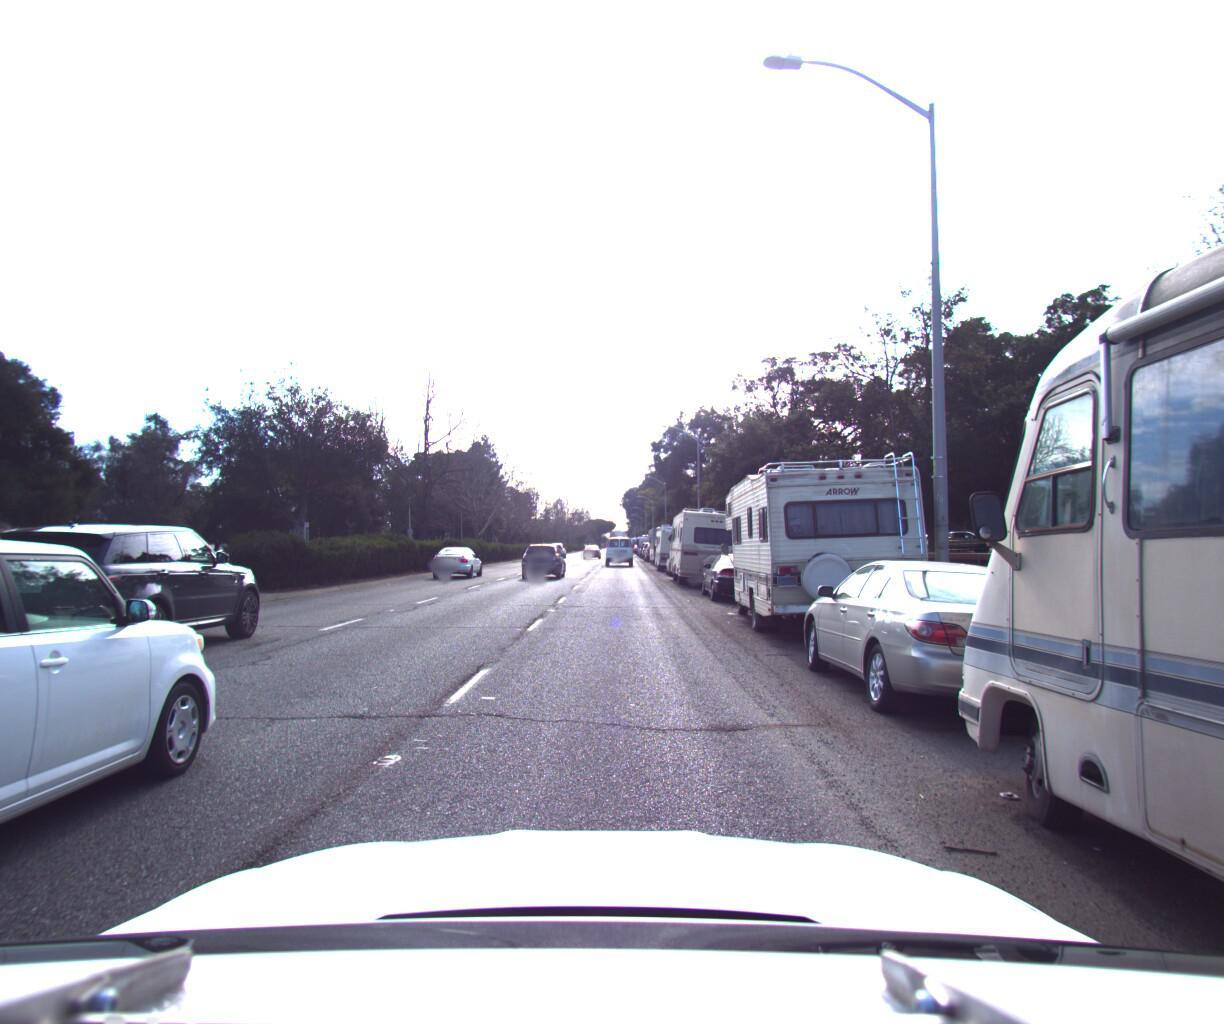car: (790, 543, 1139, 745), (696, 544, 777, 598), (431, 536, 487, 574), (519, 535, 568, 574), (604, 526, 632, 558), (582, 535, 601, 551)
other_vehicle: (719, 429, 935, 656), (666, 491, 758, 581), (652, 514, 698, 566), (645, 513, 682, 556)
